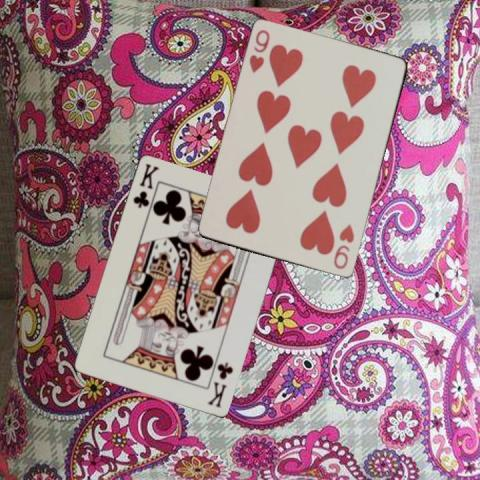9h: (331, 222, 356, 272), (247, 27, 271, 75)
Kc: (204, 360, 234, 410), (130, 161, 160, 210)
